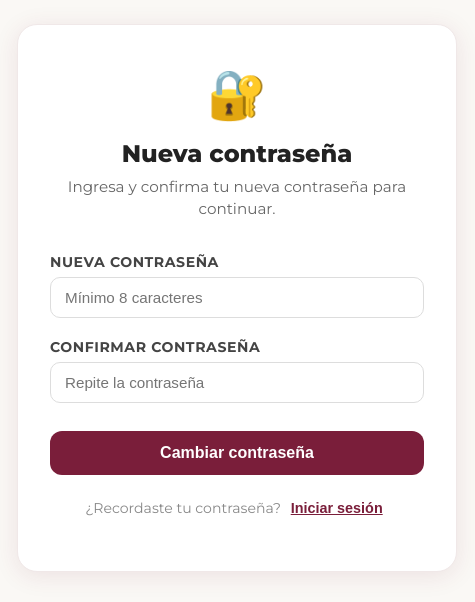
Test: ResetPassword — ramas extra › muestra solo error de coincidencia cuando password cumple longitud pero confirmar difiere
Type "ValidPass1!" into the password field labelled "Nueva contraseña" at (237, 298), box [50, 277, 424, 318]
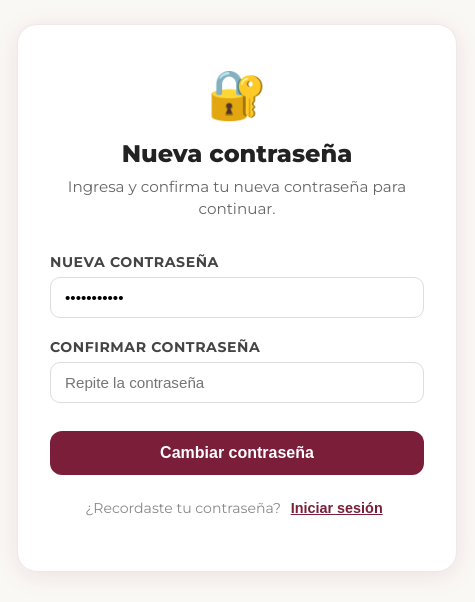
Type "OtroPass1!" into the password field labelled "Confirmar contraseña" at (237, 383), box [50, 362, 424, 403]
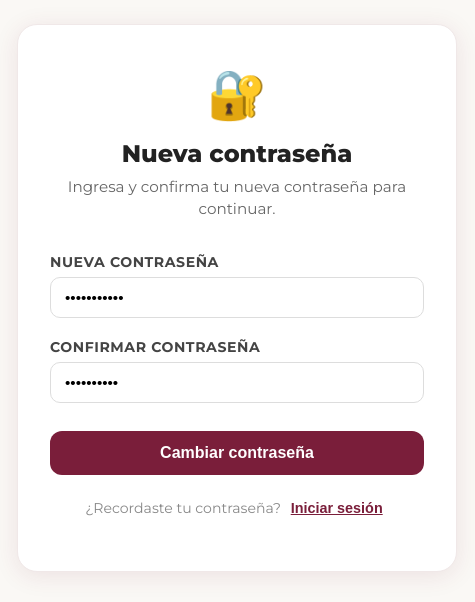
Click the button "Cambiar contraseña" at (237, 453), box [50, 431, 424, 475]
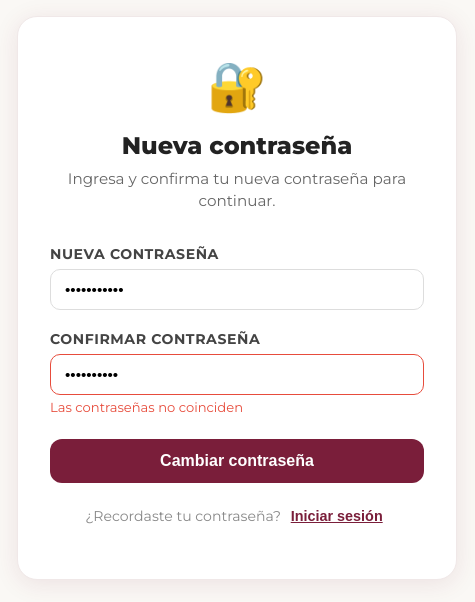
Expected: the text "Las contraseñas no coinciden" is shown, [50, 399, 243, 415]
